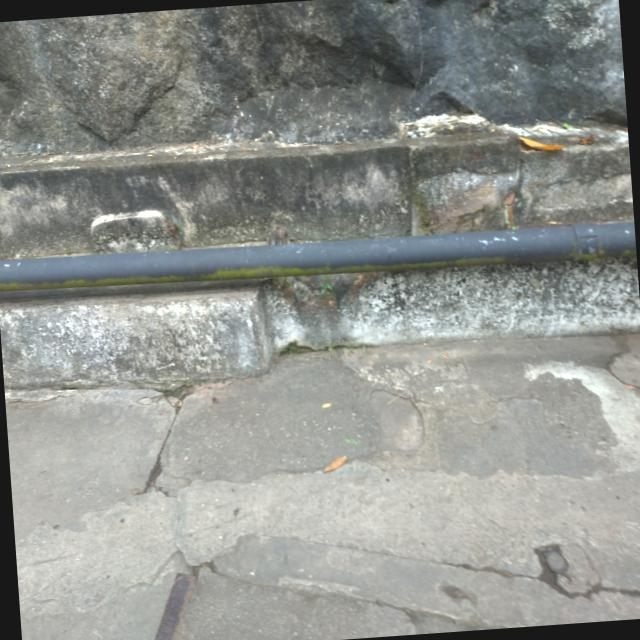gas: (0, 215, 633, 300)
